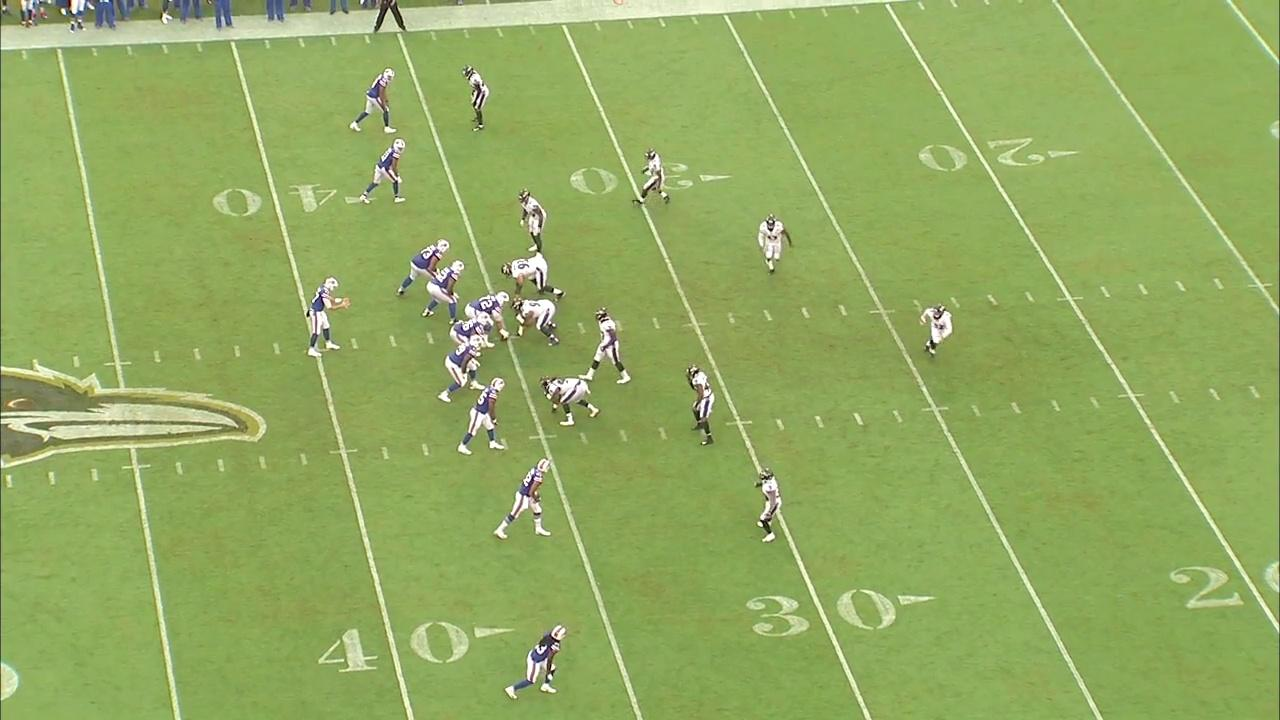defense: (578, 306, 632, 386), (538, 372, 601, 430), (500, 253, 566, 302), (683, 361, 718, 449), (510, 295, 561, 350), (630, 145, 671, 211), (755, 212, 795, 278), (515, 187, 549, 260), (752, 466, 783, 545), (917, 300, 954, 361), (460, 63, 491, 133)
oline: (436, 334, 488, 407), (396, 235, 452, 300), (419, 258, 469, 327), (463, 291, 513, 350), (449, 311, 493, 358)
qb: (302, 272, 353, 360)
skill: (502, 622, 570, 703), (493, 456, 556, 543), (455, 375, 509, 459), (357, 136, 410, 207), (348, 65, 399, 136)
